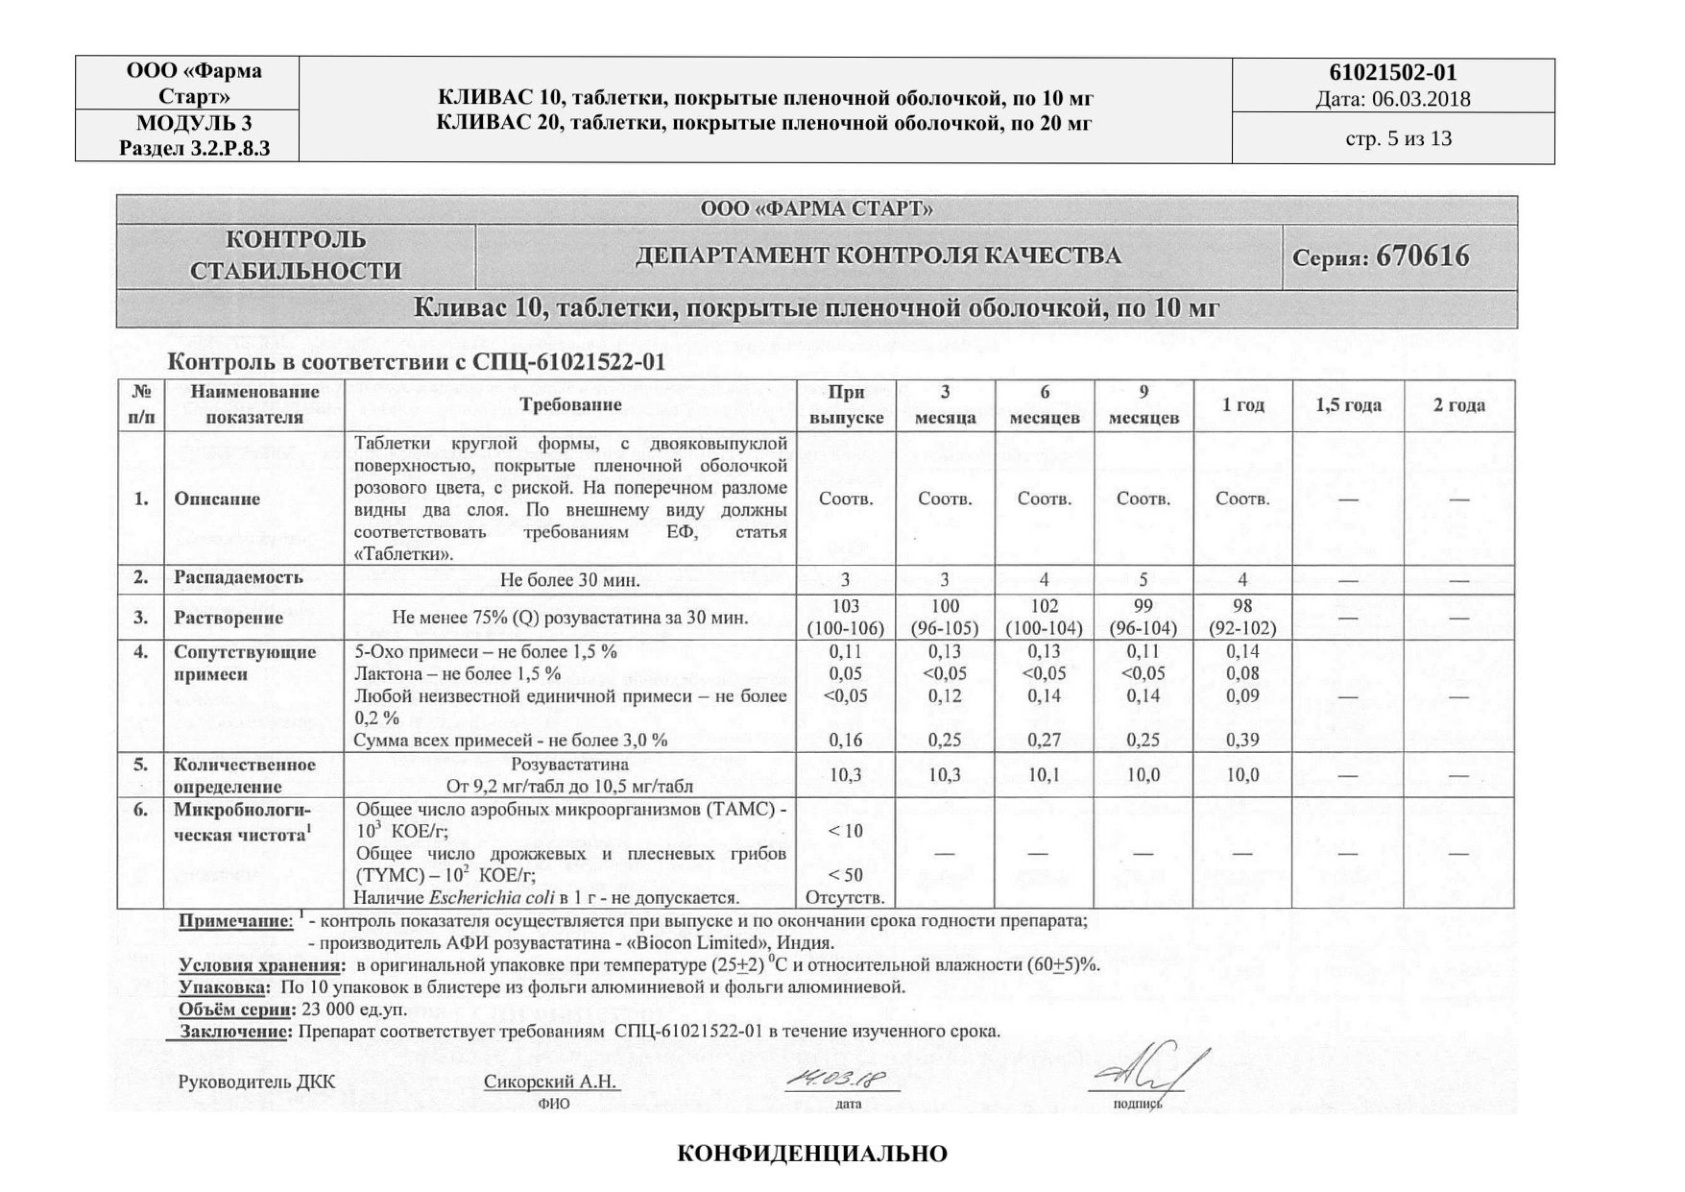full_lined: (116, 378, 1516, 909)
merged_cells: (115, 192, 1519, 329), (74, 54, 1556, 165)
